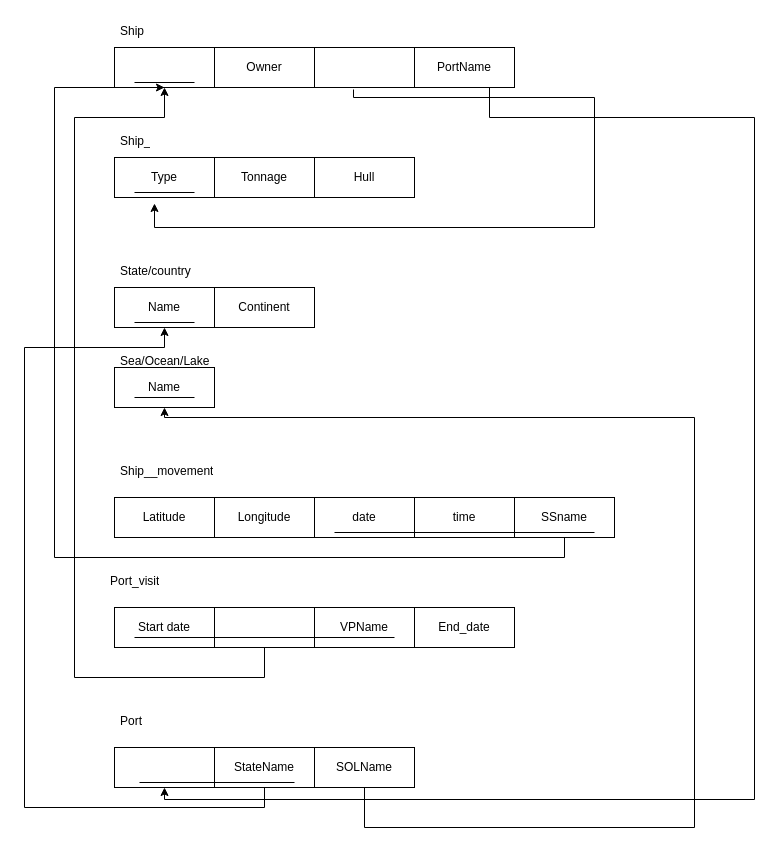
Some shapes in this 780 by 853 pixel diagram are drawn without their labels. Each missing label, with the centre of its shape:
Pname: point 164,767
Ship Type: point 364,67
Sname: point 164,67
VSName: point 264,627
